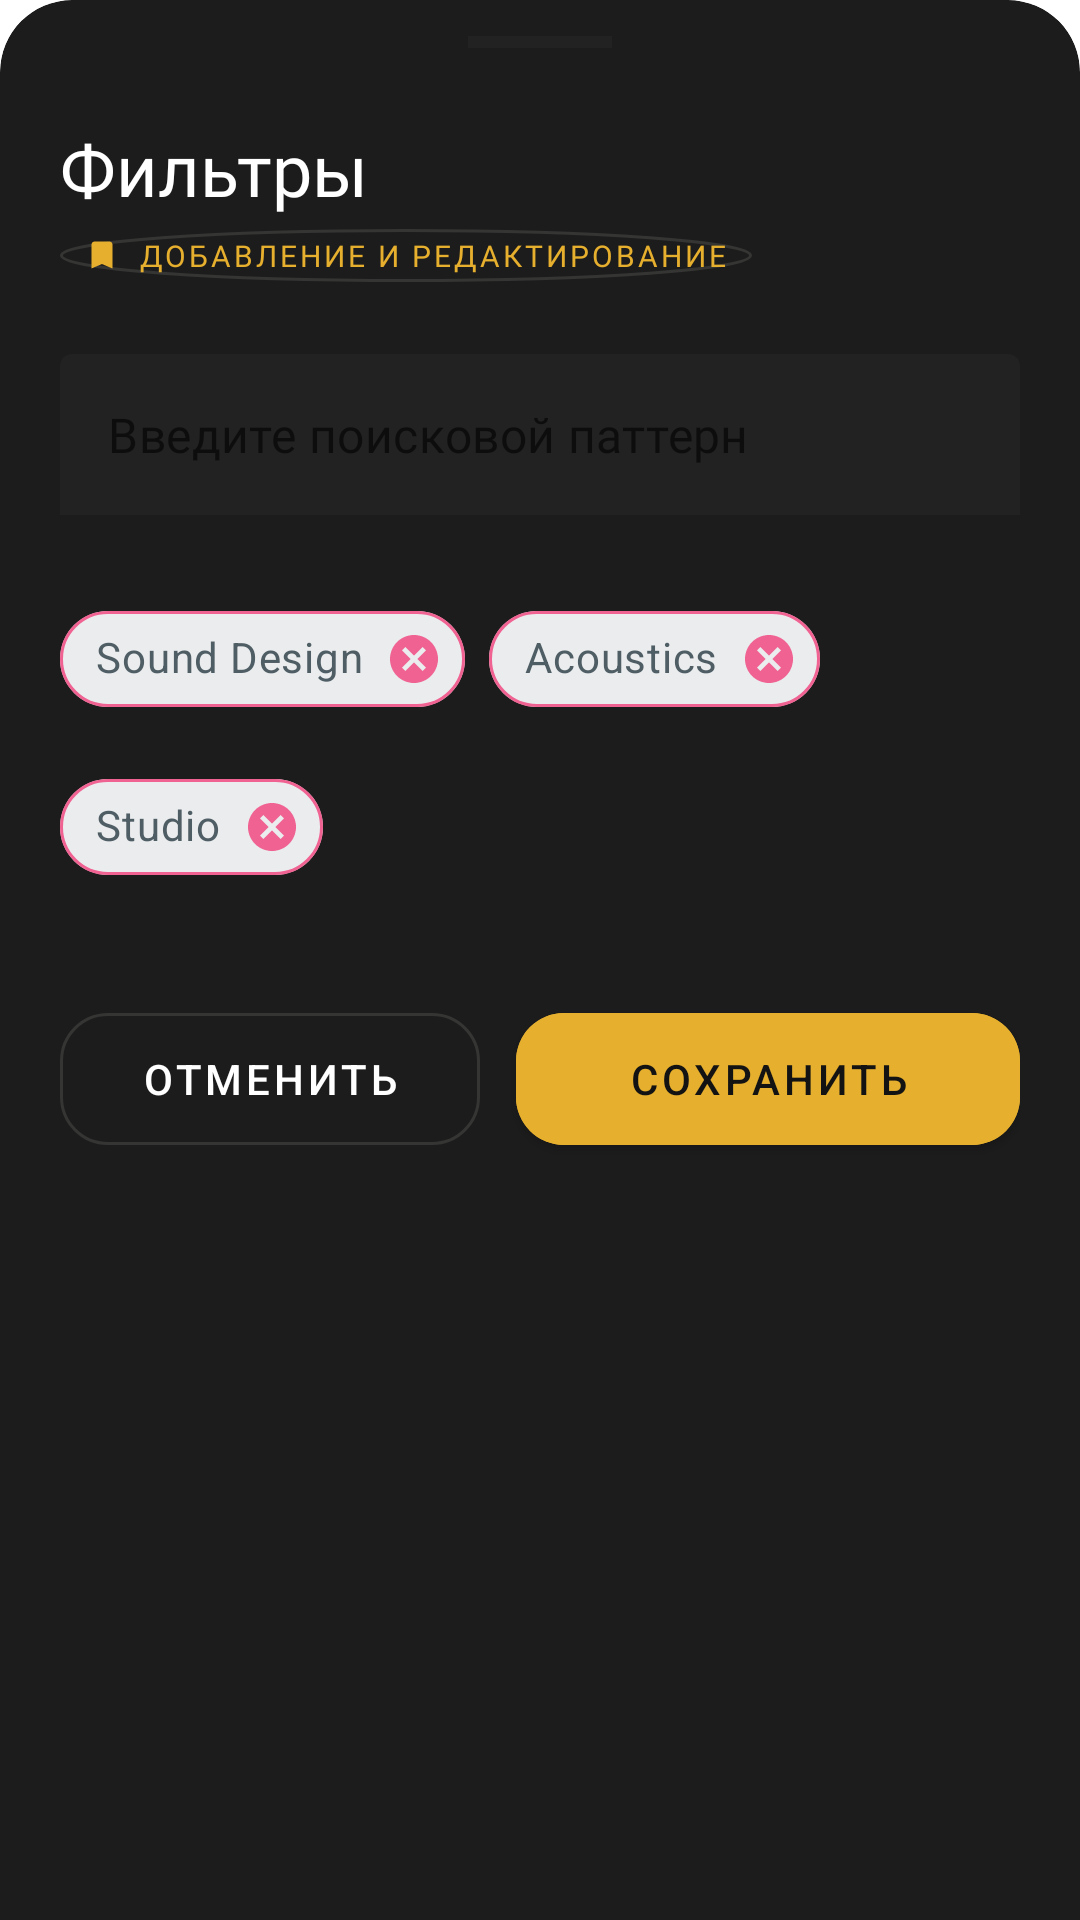

Screen size 1080px x 1920px. Icon name, then its center in pixels as (x=x, y=y):
bookmark add: (x=102, y=255)
